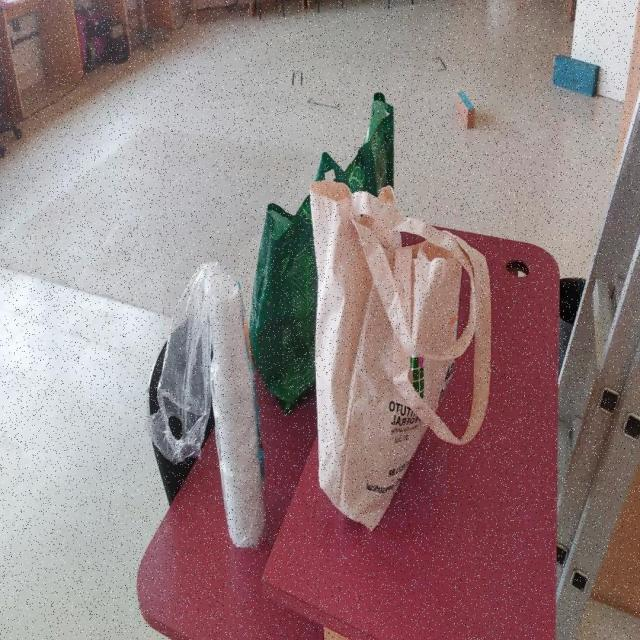Bag: (306, 179, 492, 536), (249, 88, 396, 417)
